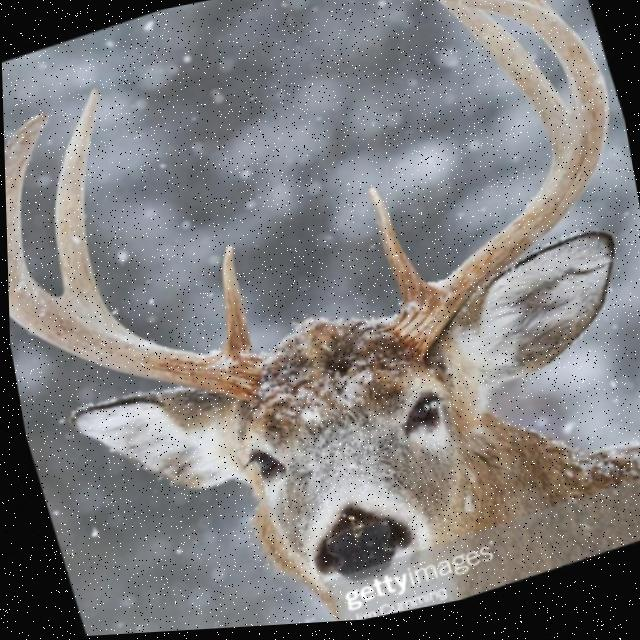L-F: (374, 0, 608, 367)
L-G1: (365, 187, 428, 307)
R-F: (3, 113, 260, 405)
R-G1: (218, 246, 249, 357)
R-G2: (53, 88, 100, 297)
